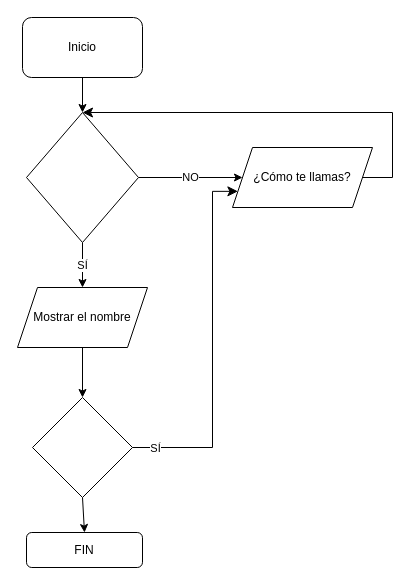
Image size: 420x585. Some labels were removed from this diagram. Here are the shapes that lost their labels. From the top down, the centre of each, then its label:
At (82,177): "¿Hay nombre guardado?".
At (82,447): "Editar Nombre".
